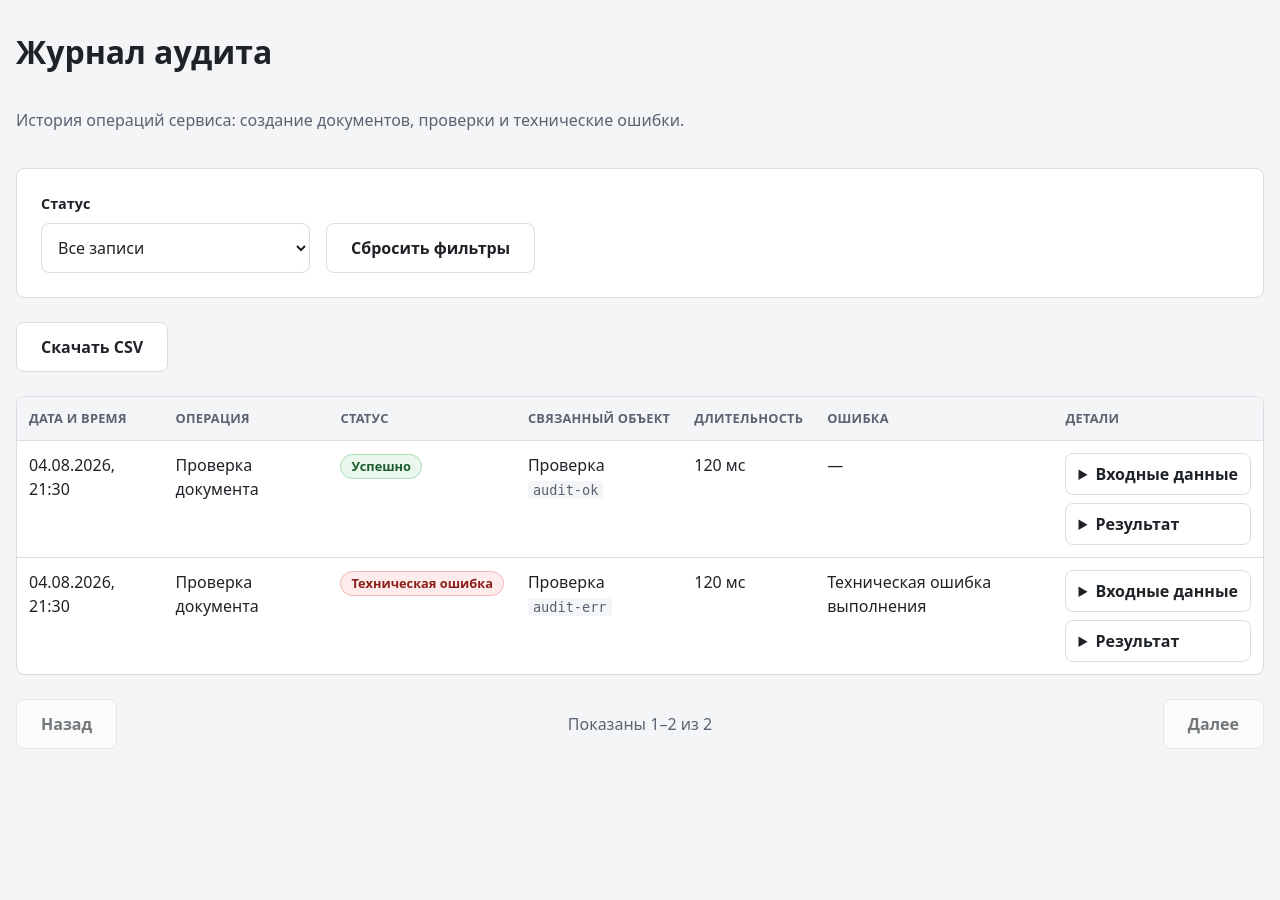
AuditJournalPage › «Только ошибки» формирует запрос с errors_only=true
The width and height of the screenshot is (1280, 900).
Expected: the table is shown, left=17, top=397, right=1263, bottom=674
Select "Только ошибки" in the dropdown labelled "Статус" at {"x": 176, "y": 248}, box left=41, top=223, right=310, bottom=273
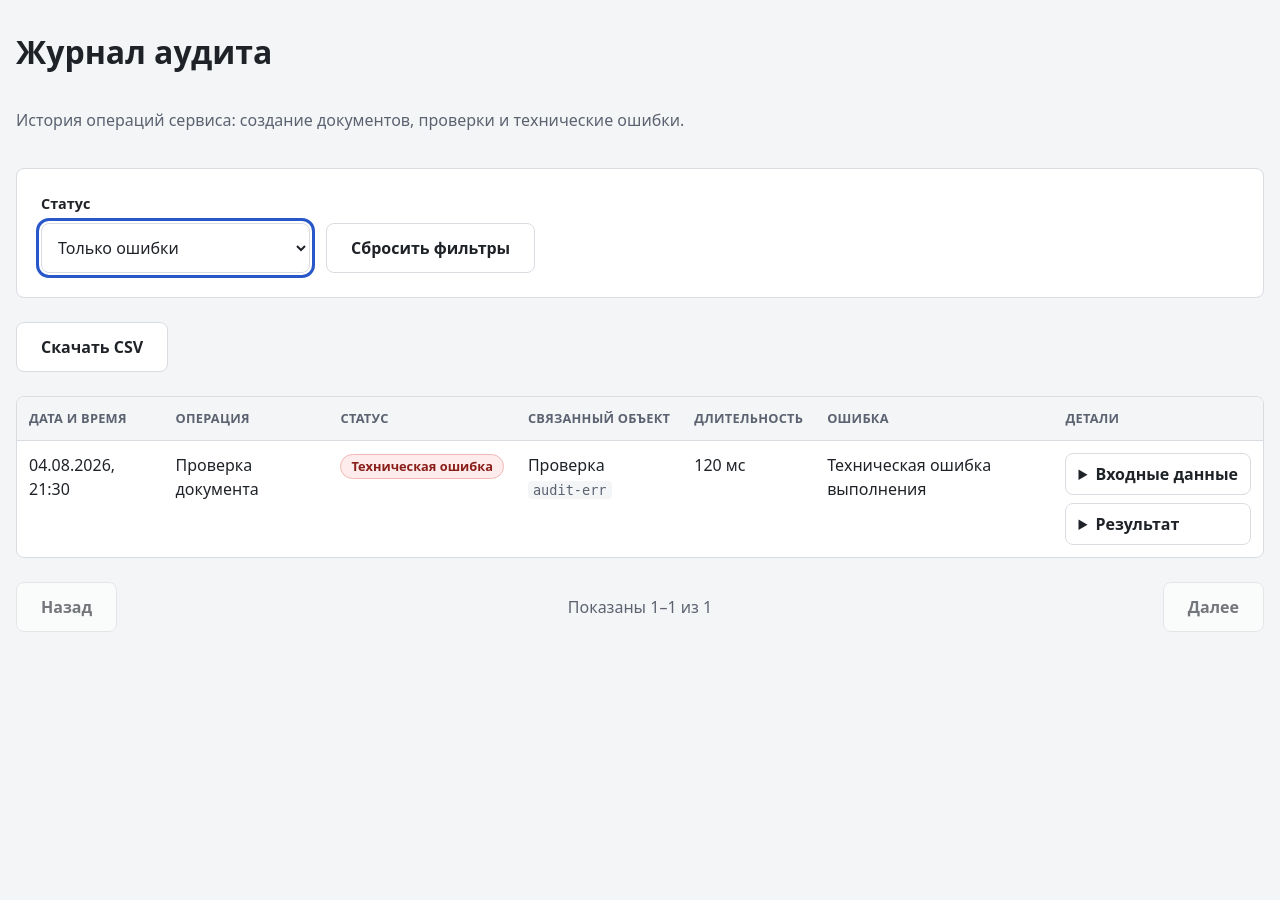
Expected: the text "audit-err" is shown, left=528, top=481, right=612, bottom=499
Expected: the text "audit-ok" is gone
